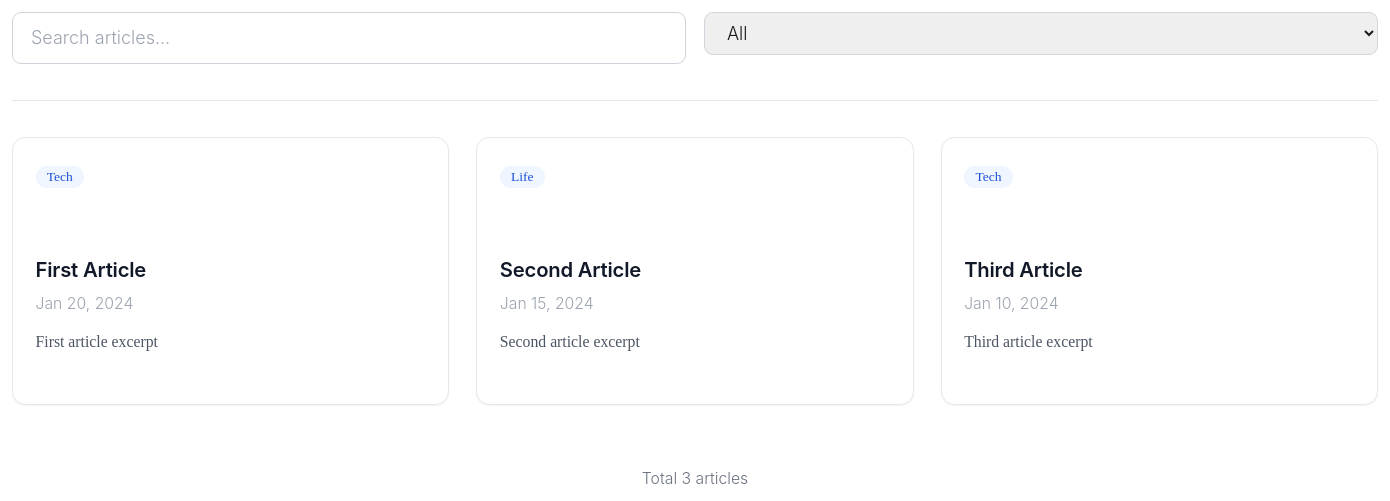
Test: PostsClient › 搜索标签时能找到相应文章
Type "React" into the field with placeholder "Search articles..." at [349, 38], box [12, 12, 686, 64]
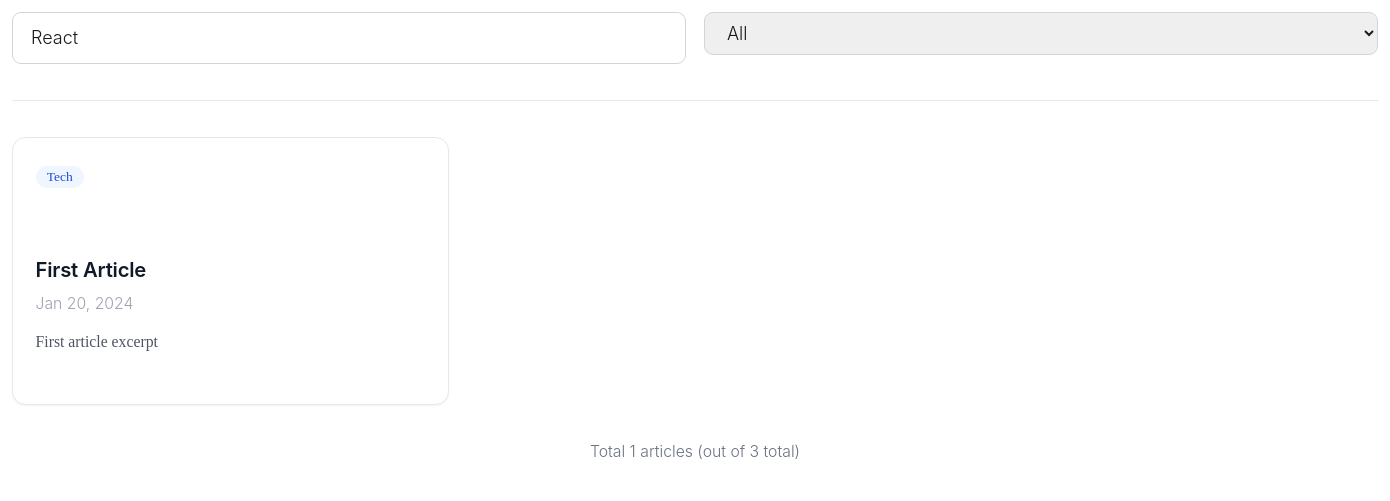
Expected: the heading "First Article" is shown, [36, 257, 146, 282]
Now the link "Second Article" is gone
Now the link "Third Article" is gone
